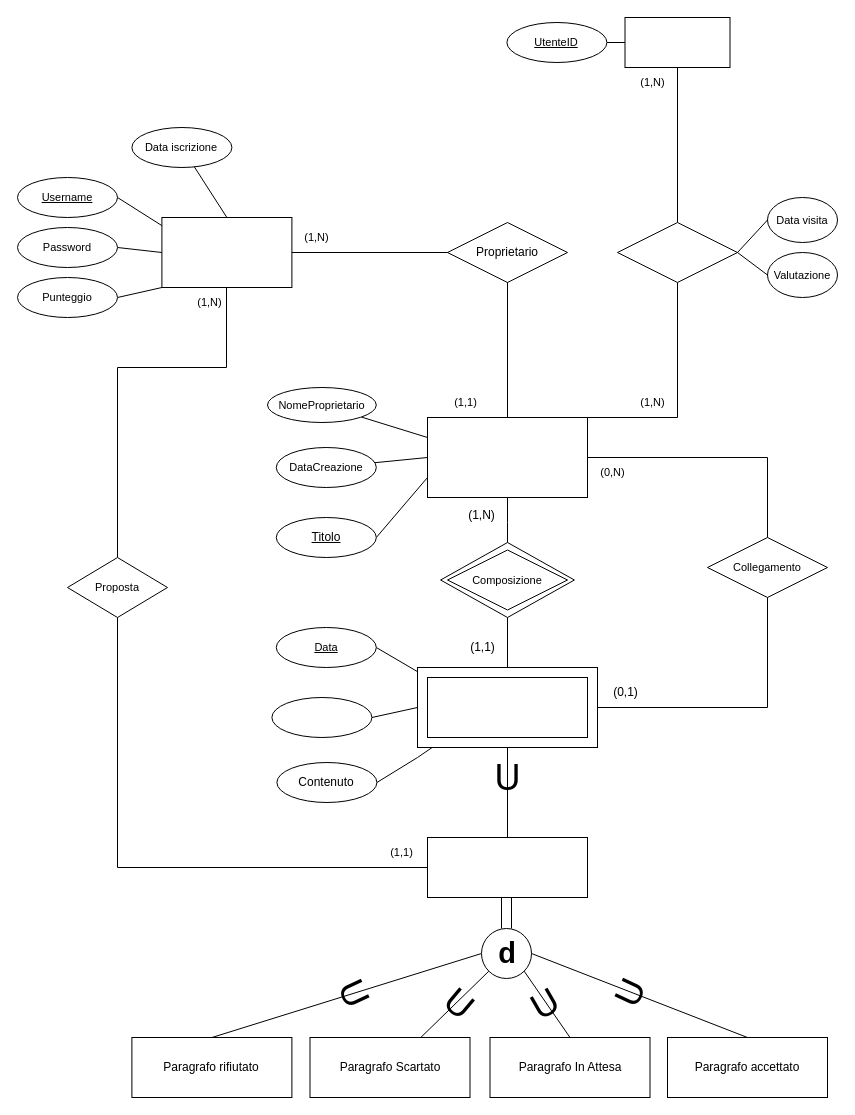
Some shapes in this 855 by 1115 pixel diagram are drawn without their labels. The centre of each missing label's shape, as x and y in pixels:
"Autore" goes at pixel 226 252.
"Pagina" goes at pixel 507 457.
"Paragrafo" goes at pixel 507 707.
"paragrafo proposto" goes at pixel 507 867.
"Posizione" goes at pixel 321 717.
"Utente" goes at pixel 677 42.
"Visita" goes at pixel 677 252.
